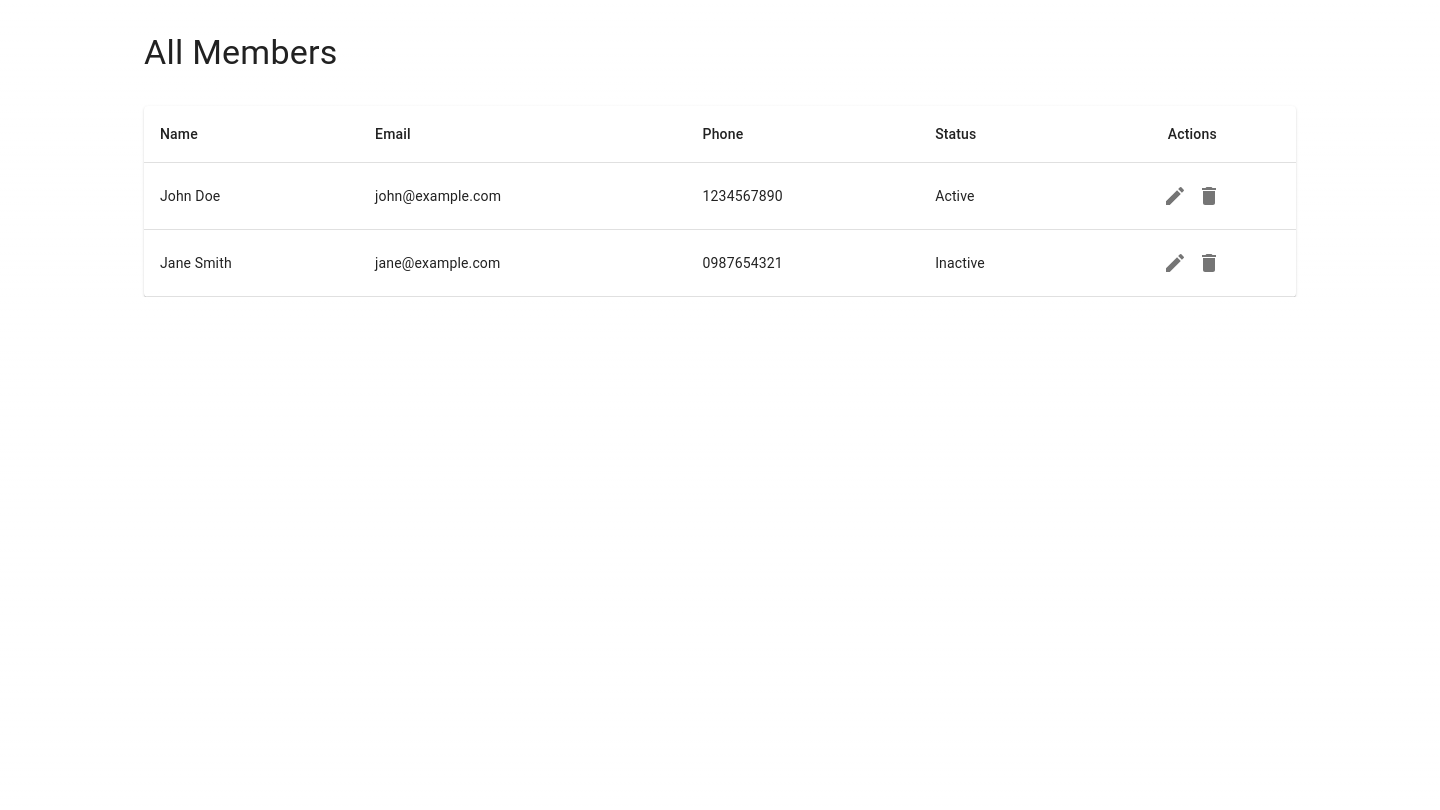
Test: ViewAllMembers › opens edit dialog when edit button is clicked
Click the button named "Edit" in the row of "John Doe" at (1175, 196), box [1158,179,1192,213]
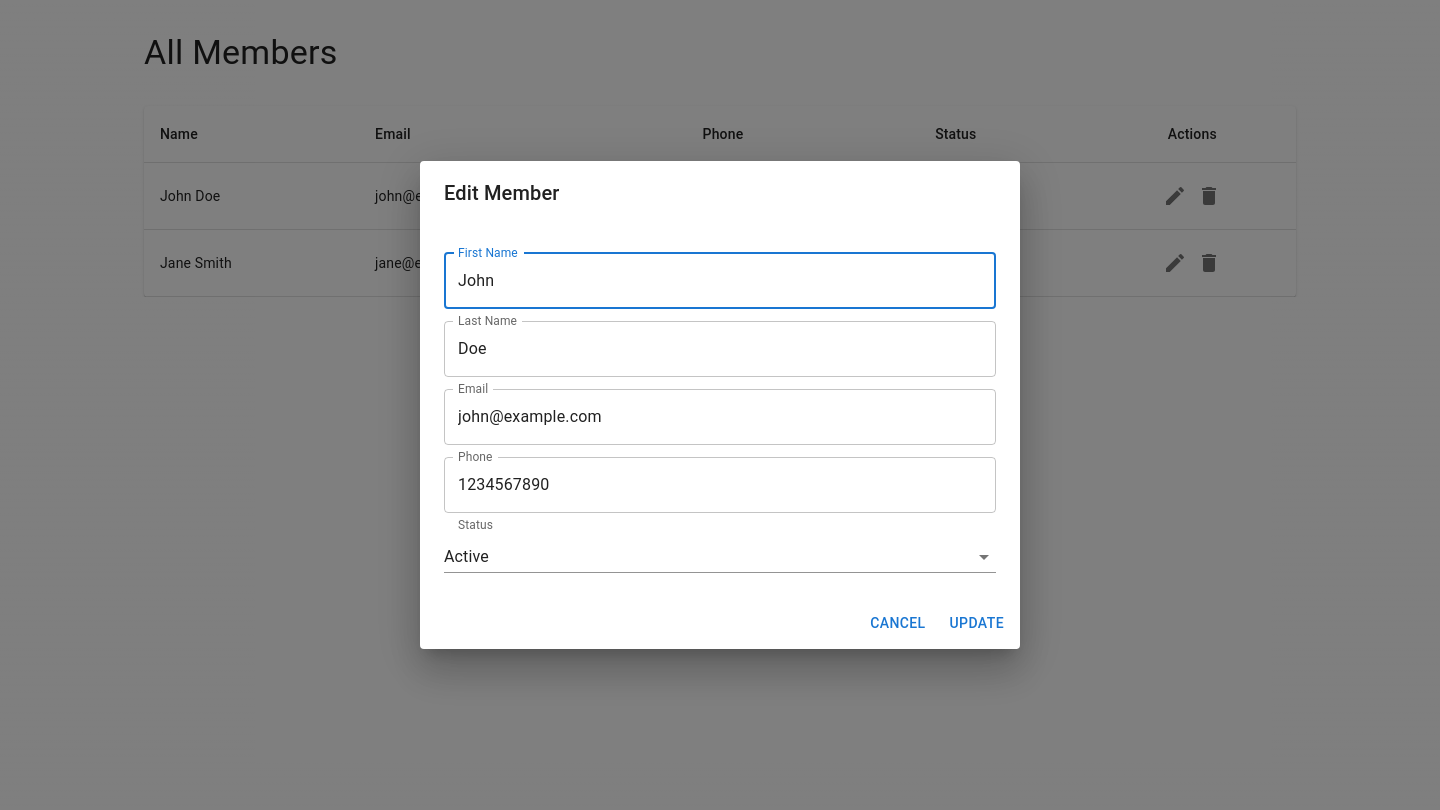
expect the heading "Edit Member" is shown: met, box [444,181,560,205]
